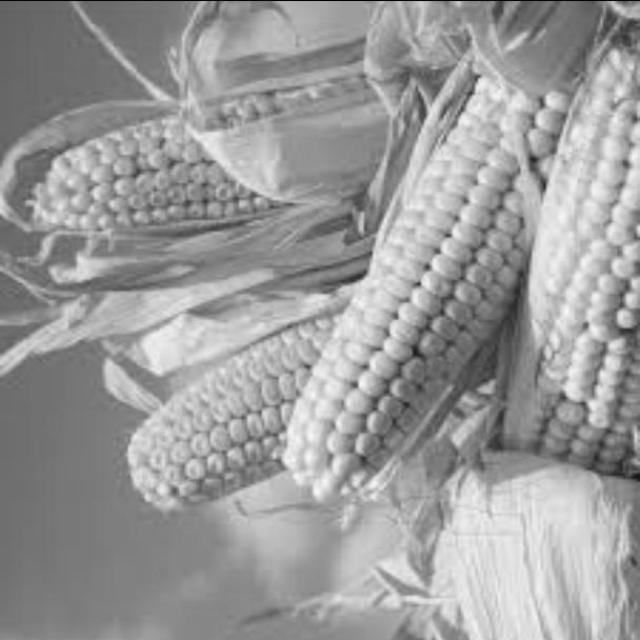ngu coc: (285, 77, 572, 523), (4, 42, 415, 255), (489, 6, 639, 486), (122, 291, 377, 524)
